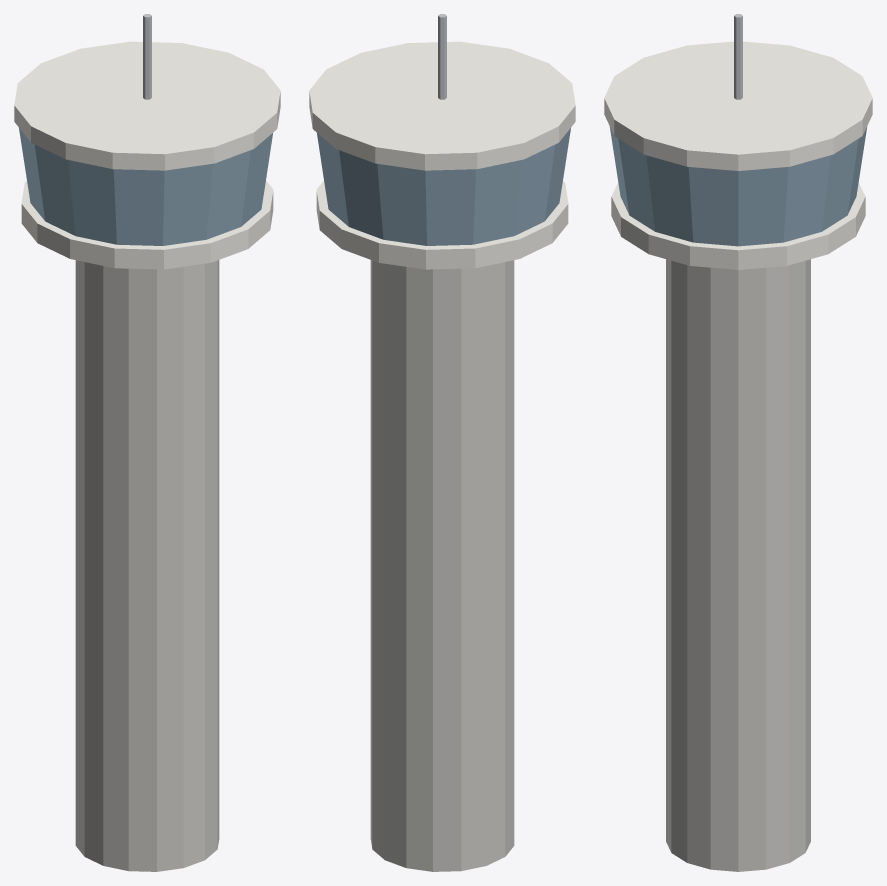
File: euroairport-tower.glb
3 views of the same model, side by side, from view 1: azimuth 30°, elevation 25°; view 2: azimuth 150°, elevation 25°; view 3: azimuth 270°, elevation 25° (orthographic).
Visible parts, largest first — view 1: building; view 2: building; view 3: building.
Part boxes in pixels (left/top/right/bottom): building: left=14, top=14, right=280, bottom=871; building: left=309, top=14, right=575, bottom=871; building: left=604, top=14, right=872, bottom=871.
Size of the model in its own units: 14.8 by 50.2 by 14.8.
